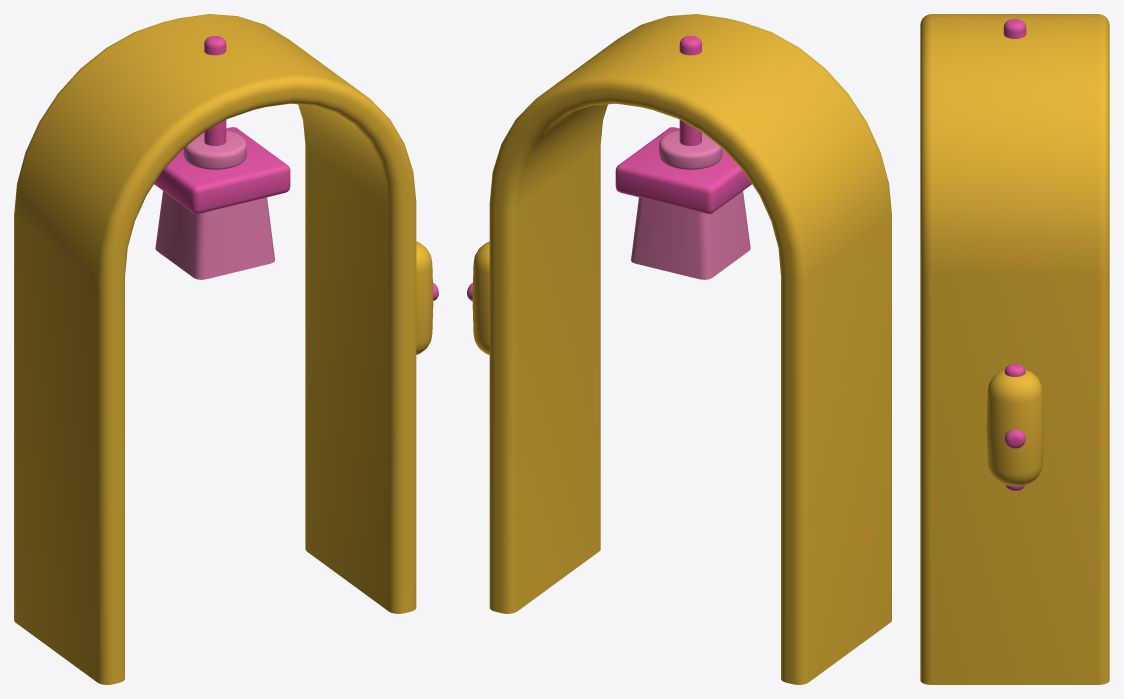
The model's file is makina4.fbx.
3 views of the same model, side by side, from view 1: azimuth 30°, elevation 25°; view 2: azimuth 150°, elevation 25°; view 3: azimuth 270°, elevation 25° (orthographic).
Visible parts, largest first — view 1: govde.003, puskurtme, ayarKol; view 2: govde.003, puskurtme, ayarKol; view 3: govde.003, ayarKol, puskurtme.
Part boxes in pixels (x1=…): govde.003: x1=14, y1=14, x2=416, y2=684; puskurtme: x1=154, y1=36, x2=290, y2=279; ayarKol: x1=416, y1=241, x2=438, y2=354; govde.003: x1=489, y1=14, x2=891, y2=684; puskurtme: x1=615, y1=36, x2=751, y2=279; ayarKol: x1=467, y1=241, x2=489, y2=354; govde.003: x1=920, y1=14, x2=1109, y2=684; ayarKol: x1=986, y1=363, x2=1043, y2=490; puskurtme: x1=1003, y1=19, x2=1026, y2=38.
Size of the model in its own units: 239 by 346 by 102.
